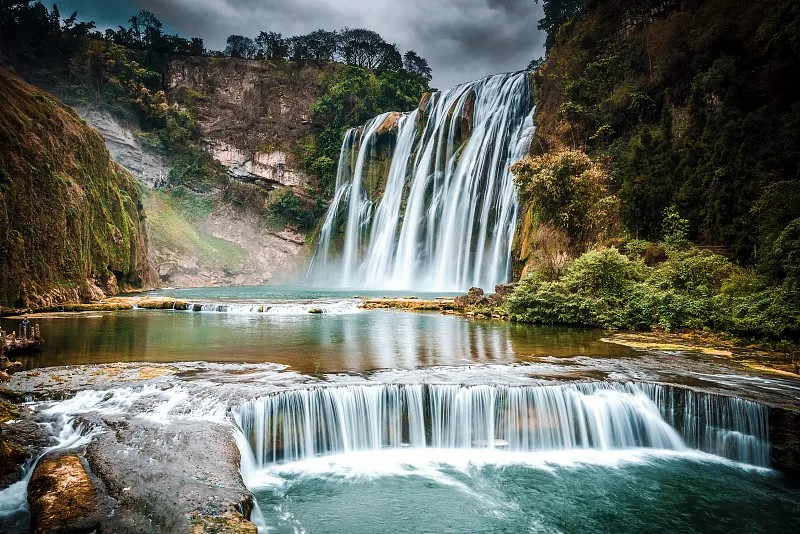Huangguoshu: (311, 70, 537, 293)
